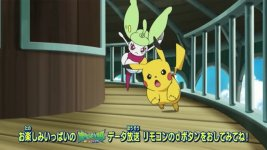pikachu: (126, 38, 190, 115)
